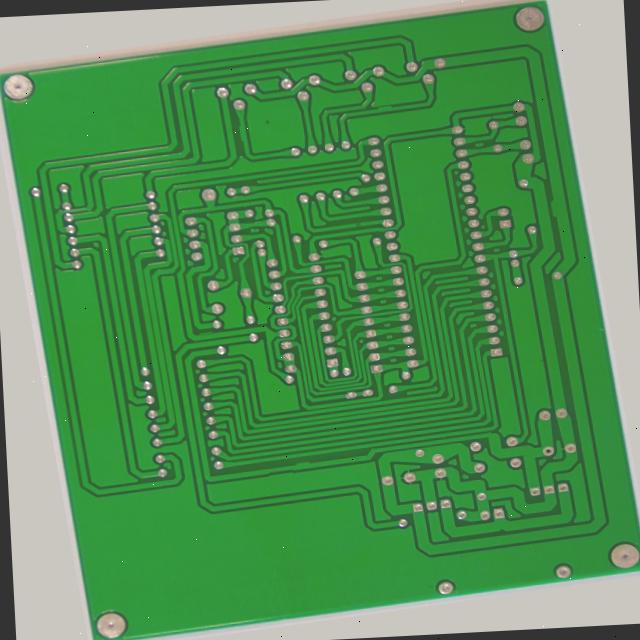spur: (587, 207, 606, 236), (251, 100, 266, 124), (269, 467, 293, 479), (180, 319, 200, 329), (411, 93, 433, 102)
